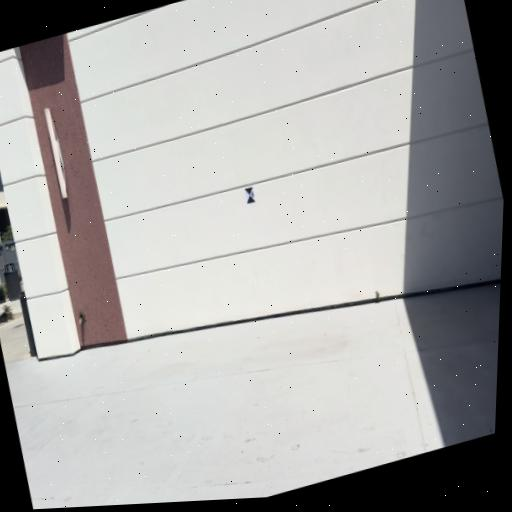target4: (244, 186, 258, 204)
